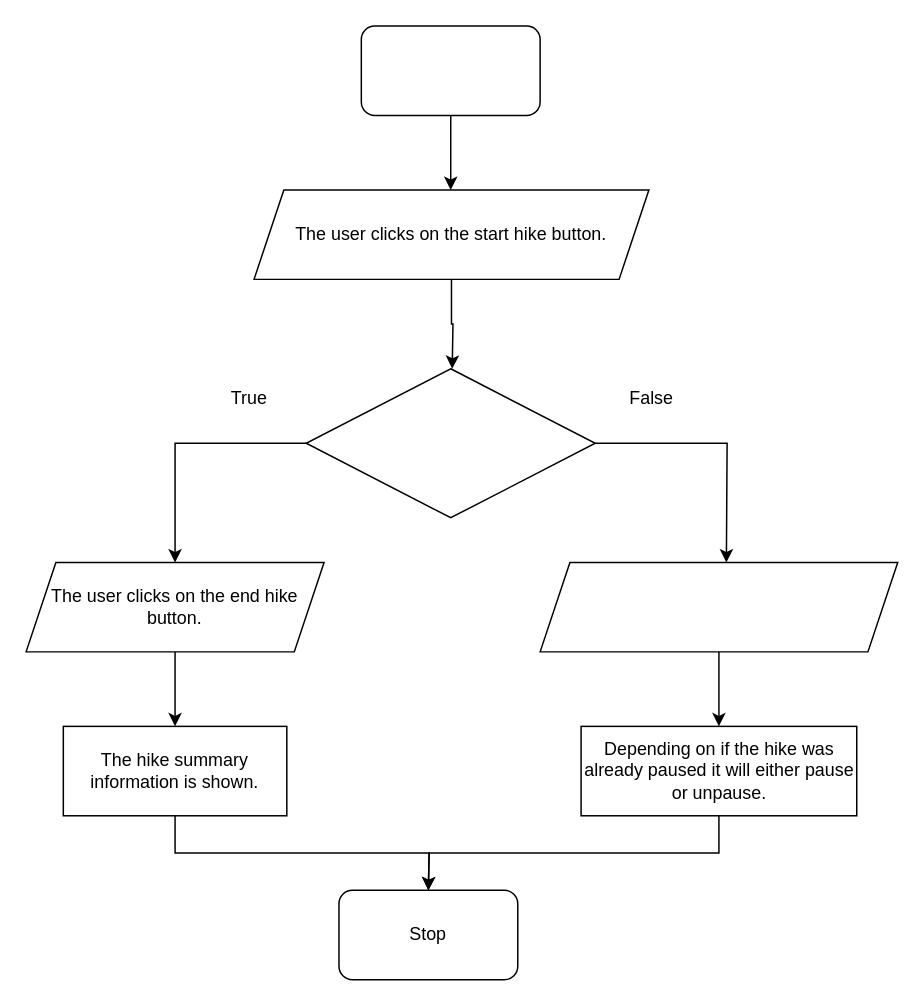
The diagram is 924 pixels wide and 1006 high, and some of its shapes have lost their labels. The centre of each missing label's shape, as x and y in pixels:
"Start" goes at (450,70).
"The user clicks on the pause hike button." goes at (718,606).
"The user wants to stop the hike." goes at (450,442).
